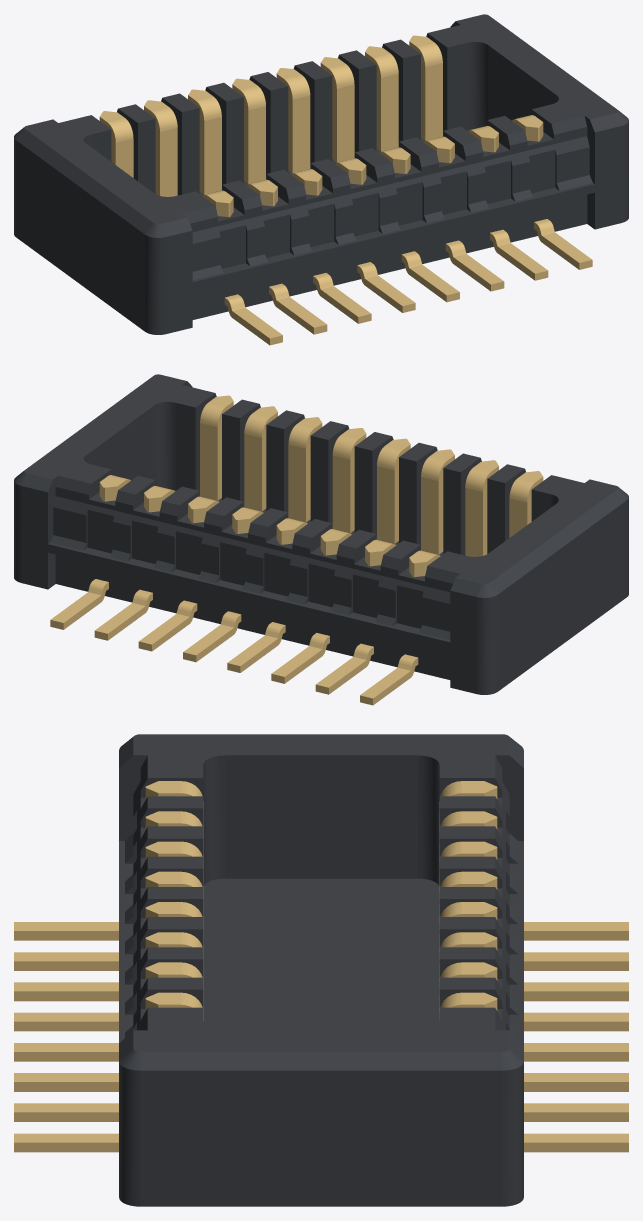
File: kc-molex_slimstack_55560-0161_2x08_p0.50mm_vertical.glb
3 views of the same model, one above another, from view 1: azimuth 30°, elevation 25°; view 2: azimuth 150°, elevation 25°; view 3: azimuth 270°, elevation 25° (orthographic). The views are drawn at different scales.
Parts seen in each view (by area): view 1: 0.08333333333333333_0.08333333333333333_0.08333333333333333_, 0.75_0.5_0.25_0.9; view 2: 0.08333333333333333_0.08333333333333333_0.08333333333333333_, 0.75_0.5_0.25_0.9; view 3: 0.08333333333333333_0.08333333333333333_0.08333333333333333_, 0.75_0.5_0.25_0.9.
Part boxes in pixels (x1,y1,x2,y2): 0.08333333333333333_0.08333333333333333_0.08333333333333333_: (14, 14, 628, 334); 0.75_0.5_0.25_0.9: (99, 35, 592, 345); 0.08333333333333333_0.08333333333333333_0.08333333333333333_: (14, 374, 628, 694); 0.75_0.5_0.25_0.9: (50, 395, 543, 705); 0.08333333333333333_0.08333333333333333_0.08333333333333333_: (119, 734, 523, 1206); 0.75_0.5_0.25_0.9: (14, 781, 628, 1152).
Bounding box in the file's own units: 0.545 × 0.115 × 0.43.
